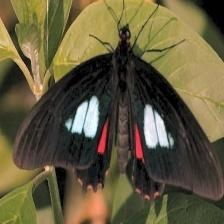butterfly: (14, 25, 224, 200)
